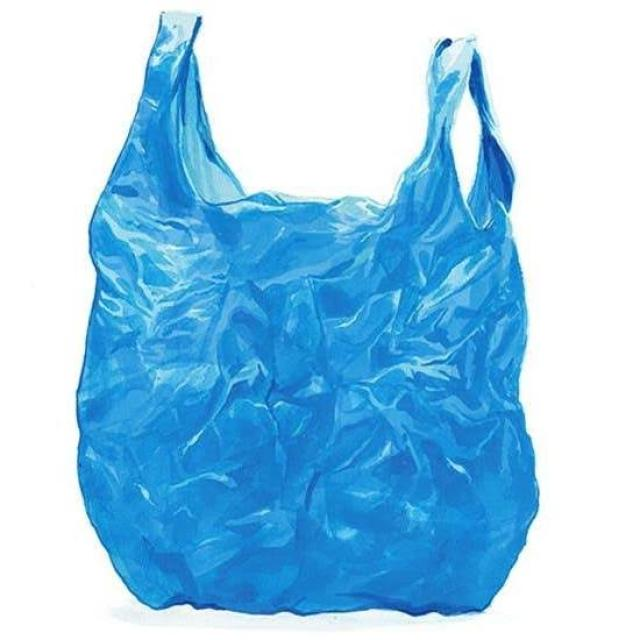residual: (68, 1, 548, 608)
